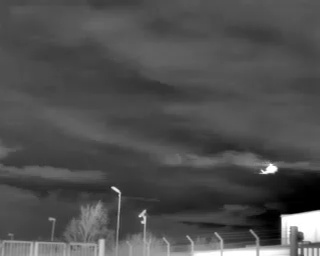HELICOPTER: (255, 158, 285, 180)
